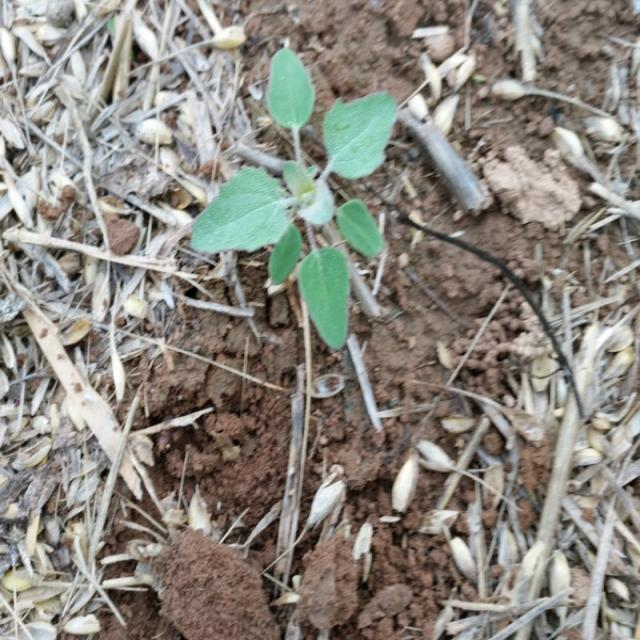goosefoots: (179, 36, 420, 355)
